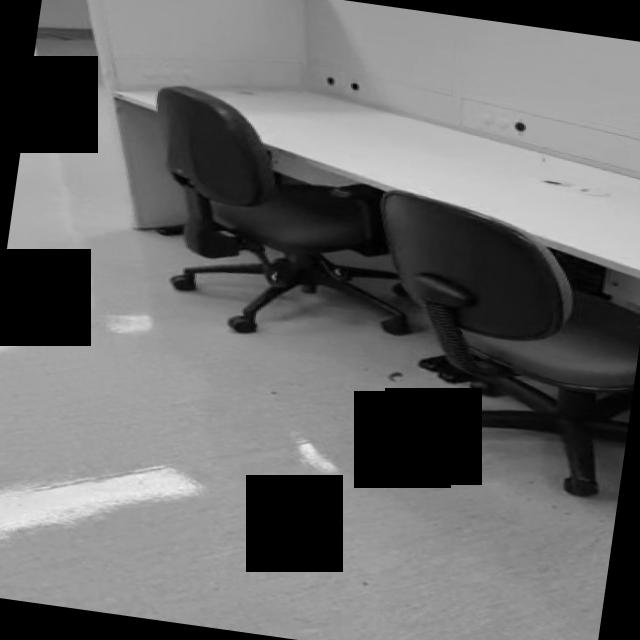cadeira-azul: (128, 82, 437, 356)
